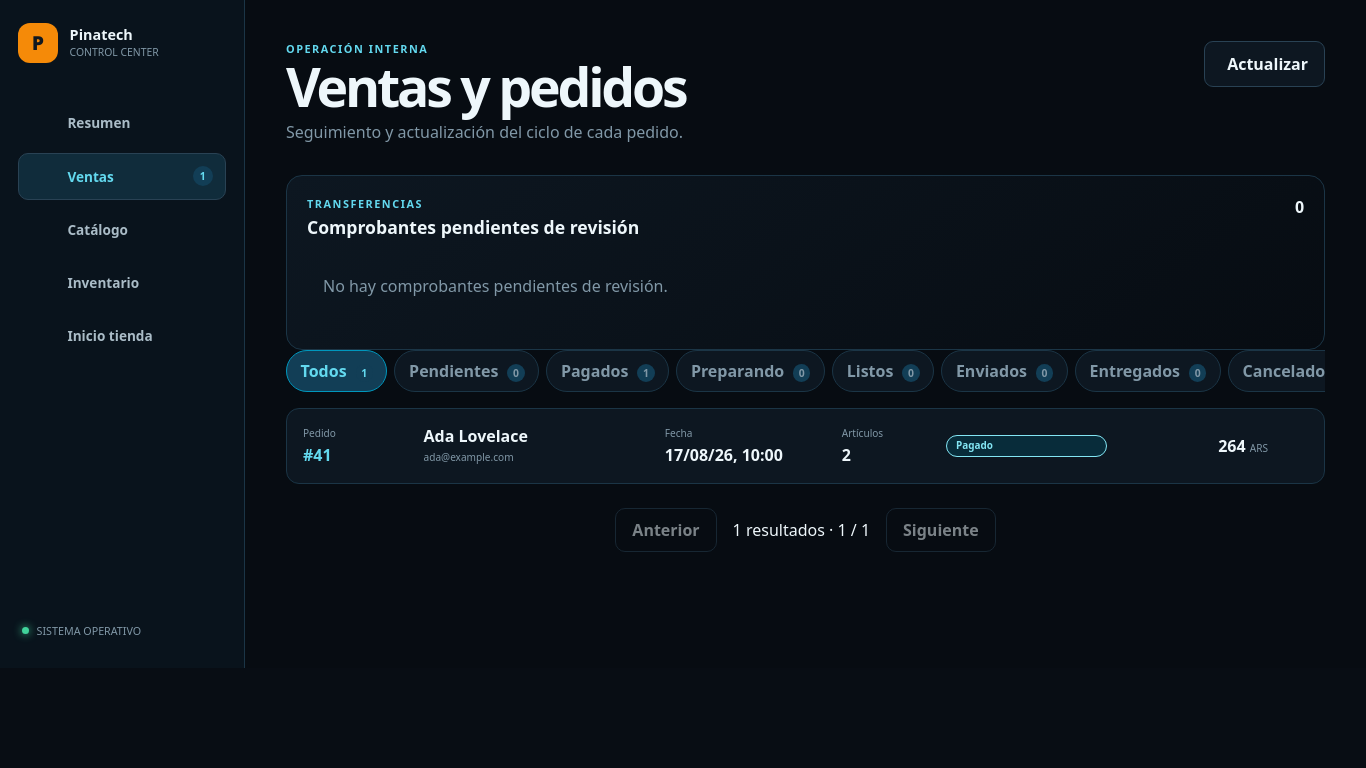
Scenario: AdminComponent payments › renders an order and preserves toggle semantics and summary focus
Click the button with class "order-summary". click: {"x": 319, "y": 433}
box: left=287, top=409, right=1324, bottom=483
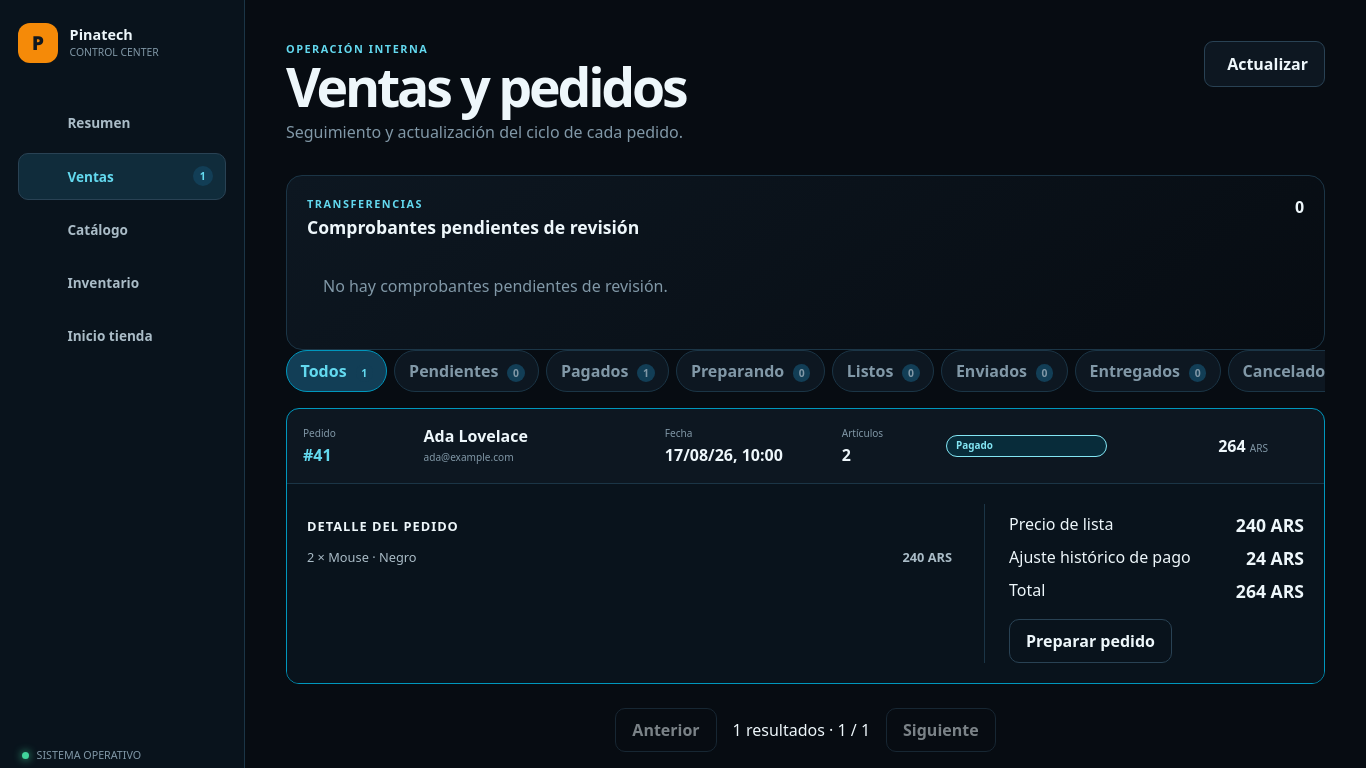
Expected: the element with id "order-detail-41" shows "2 × Mouse", left=307, top=548, right=369, bottom=566
Expected: the element with id "order-detail-41" shows "Ajuste histórico de pago", left=1009, top=546, right=1191, bottom=568
Expected: the element with id "order-detail-41" shows "Preparar pedido", left=1009, top=619, right=1172, bottom=663
